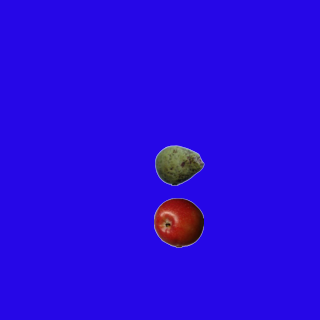Apple Braeburn: (153, 197, 203, 247)
Pear Stone: (154, 140, 204, 190)
